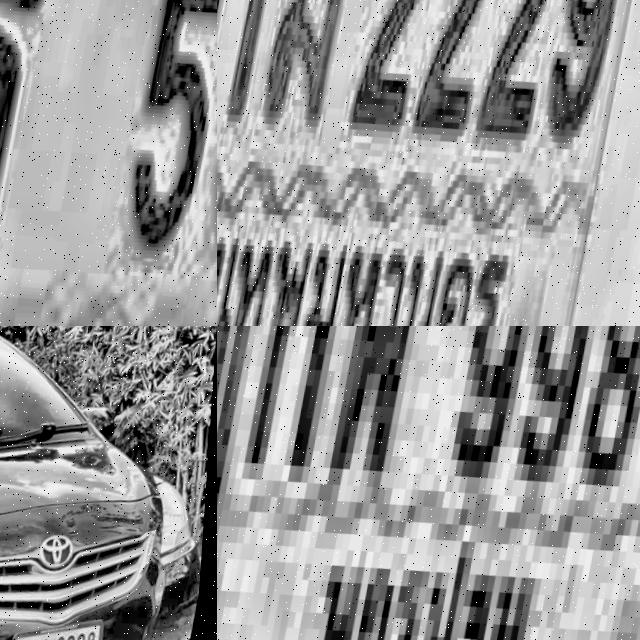license-plate: (217, 0, 640, 326), (217, 326, 640, 640), (0, 0, 217, 326), (0, 609, 117, 640)
